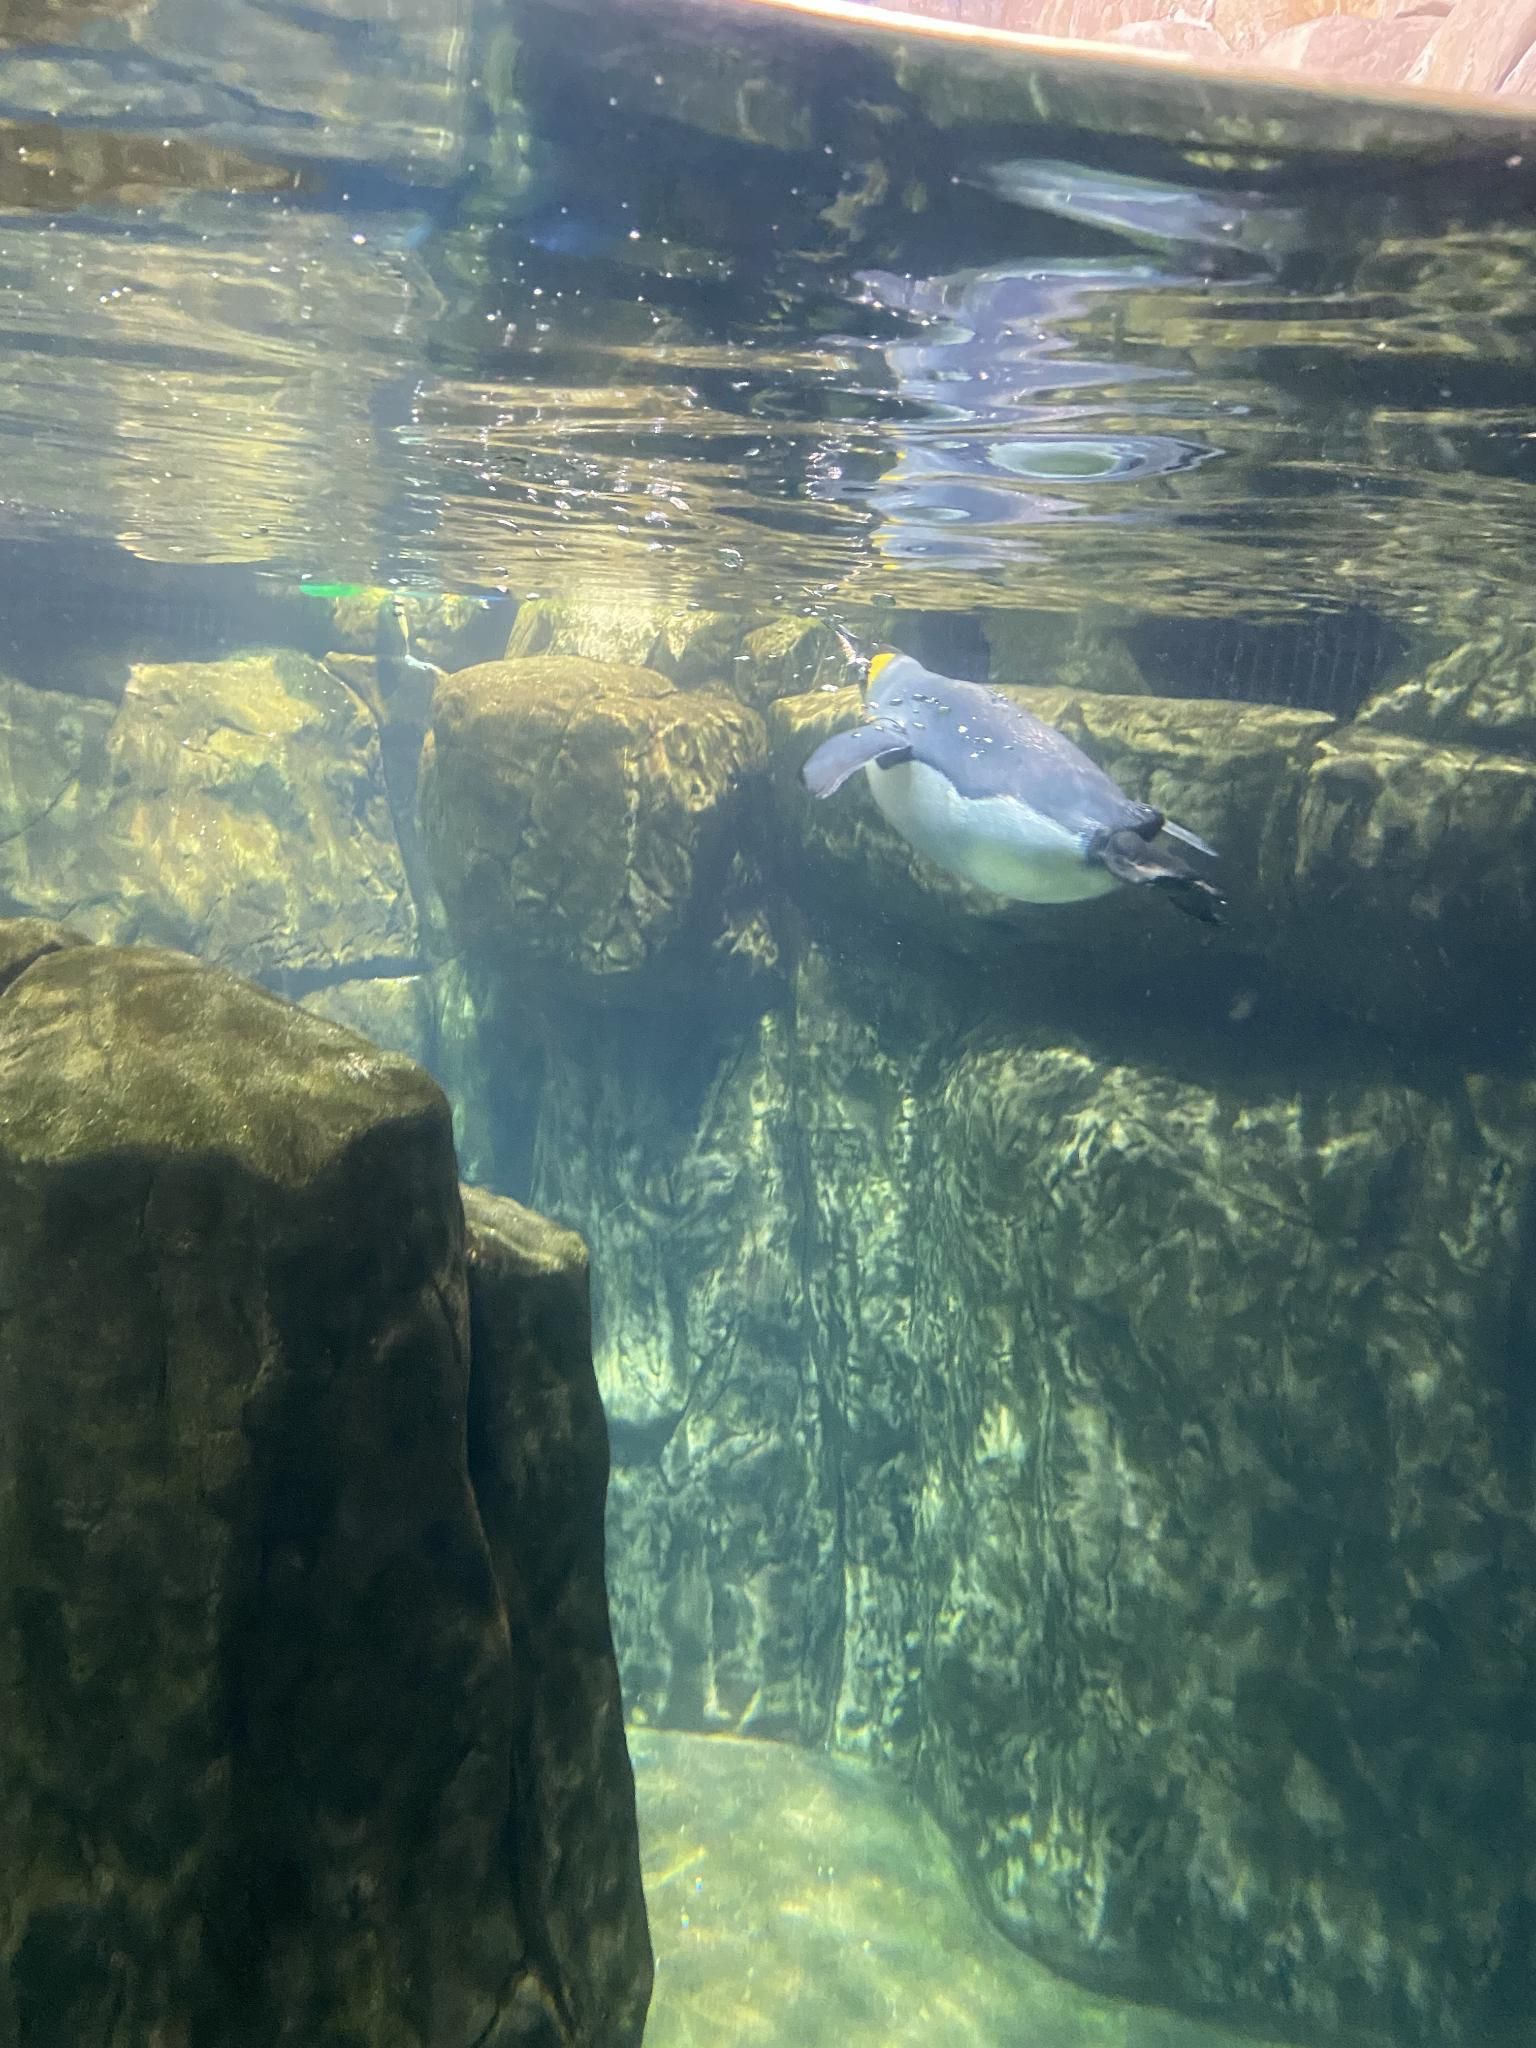penguin: (774, 622, 1217, 935)
